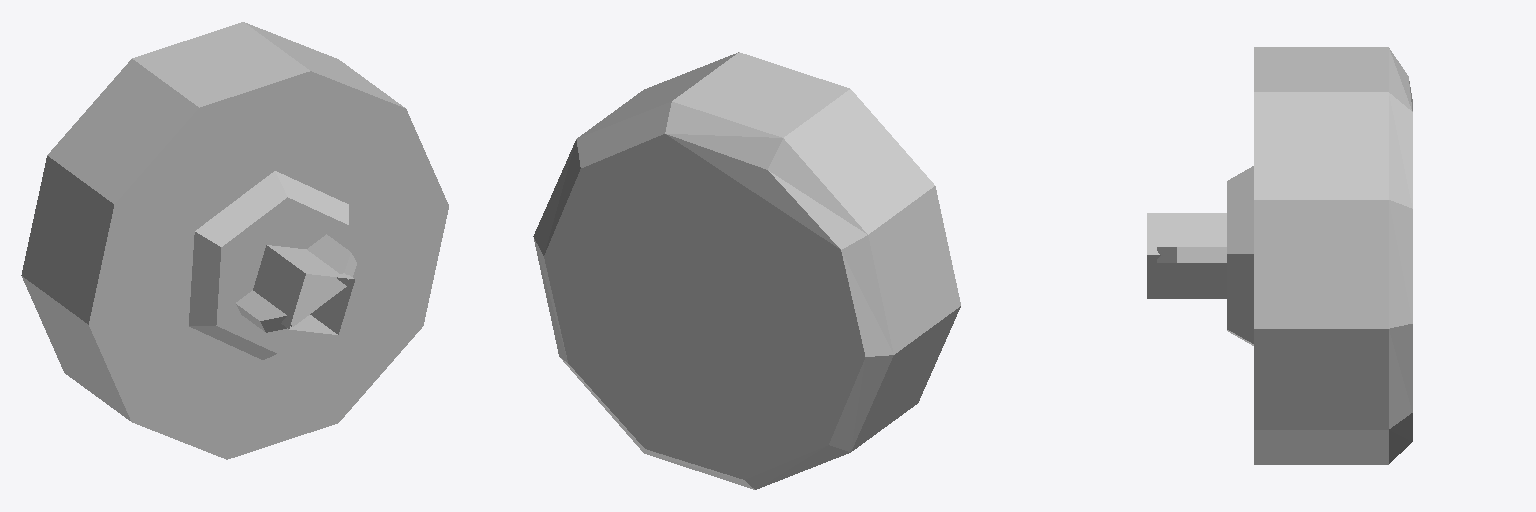
Rendered from wheel132.obj.
3 renders of one model, left to right at view 1: azimuth 30°, elevation 25°; view 2: azimuth 150°, elevation 25°; view 3: azimuth 270°, elevation 25°, orthographic.
Visible parts, largest first — view 1: wheel_low_textures; view 2: wheel_low_textures; view 3: wheel_low_textures.
Part boxes in pixels (x1,y1,x2,y2): wheel_low_textures: (21,22,448,459); wheel_low_textures: (533,52,960,489); wheel_low_textures: (1147,47,1412,464).
Size of the model in its own units: 1.56 by 1.52 by 0.9907.